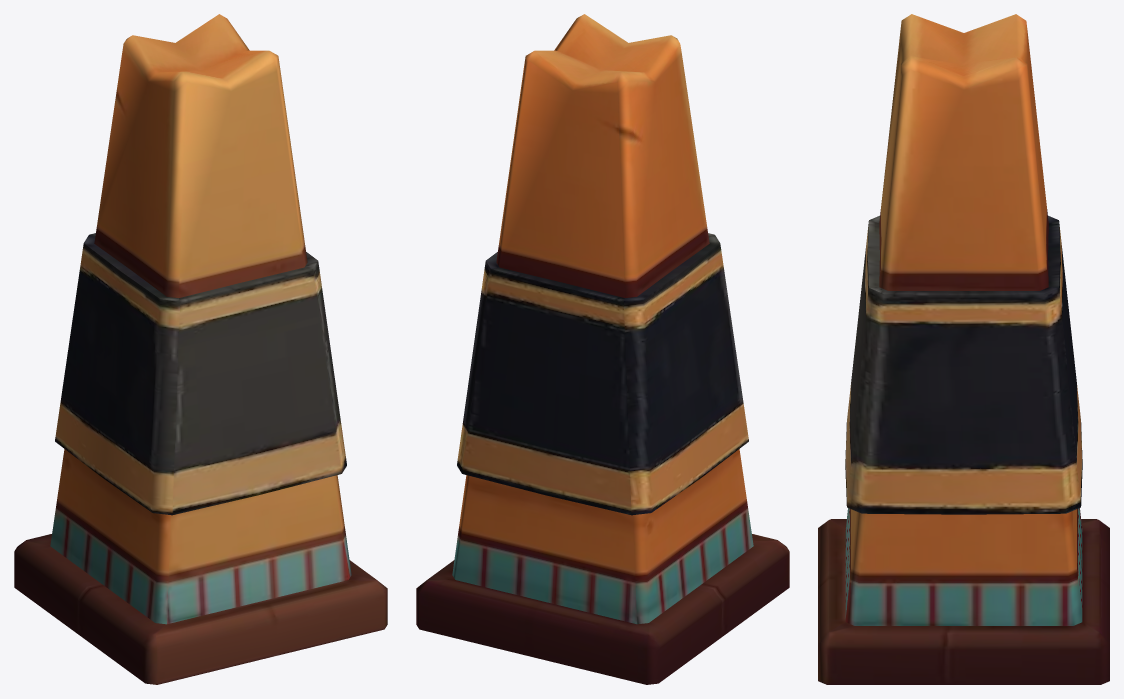
The model's file is pm-obelisk.glb.
The picture shows the model from 3 angles, left to right: view 1: azimuth 30°, elevation 25°; view 2: azimuth 150°, elevation 25°; view 3: azimuth 270°, elevation 25°; orthographic projection. The views are drawn at different scales.
Parts seen in each view (by area): view 1: Obelisk_Art; view 2: Obelisk_Art; view 3: Obelisk_Art.
Part boxes in pixels (x1,y1,x2,y2): Obelisk_Art: [14, 14, 387, 684]; Obelisk_Art: [416, 14, 789, 684]; Obelisk_Art: [818, 14, 1109, 684].
Size of the model in its own units: 2.72 by 6.05 by 2.72.
1 material, 1 textured.
